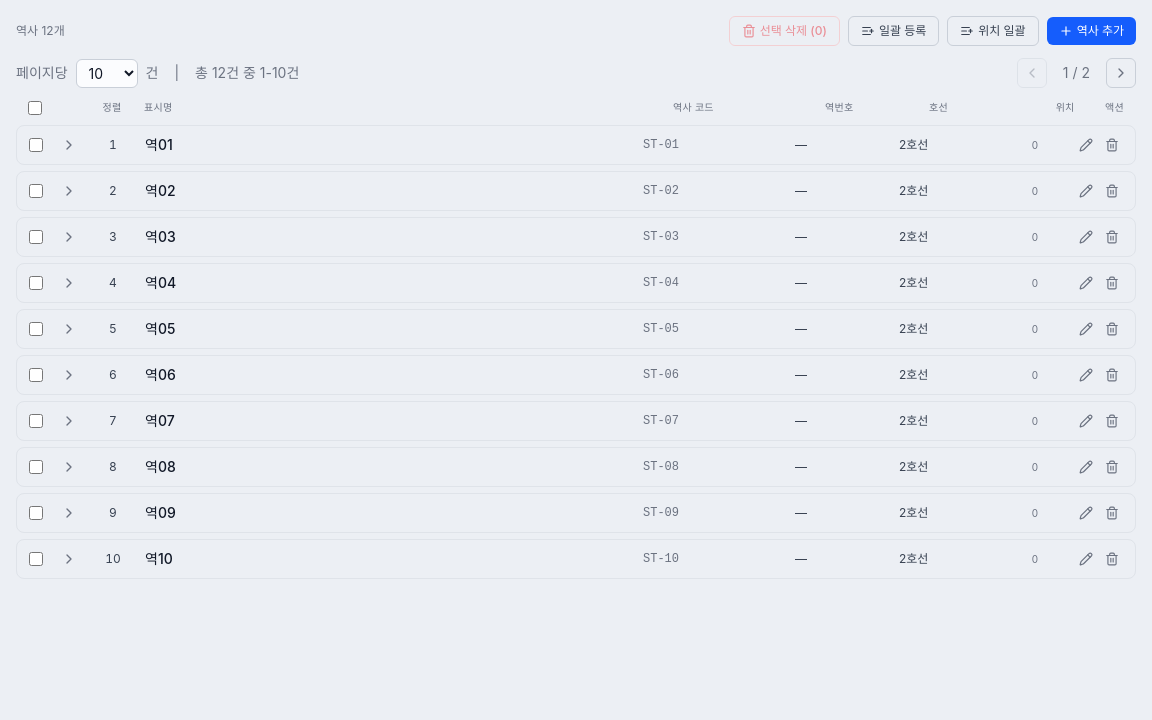
it: XsfmStationsTab 페이지네이션 › 페이지 크기를 25로 늘리면 12개 전체가 렌더된다
Select "25" in the dropdown named "페이지당" at (106, 73), box left=76, top=58, right=138, bottom=88
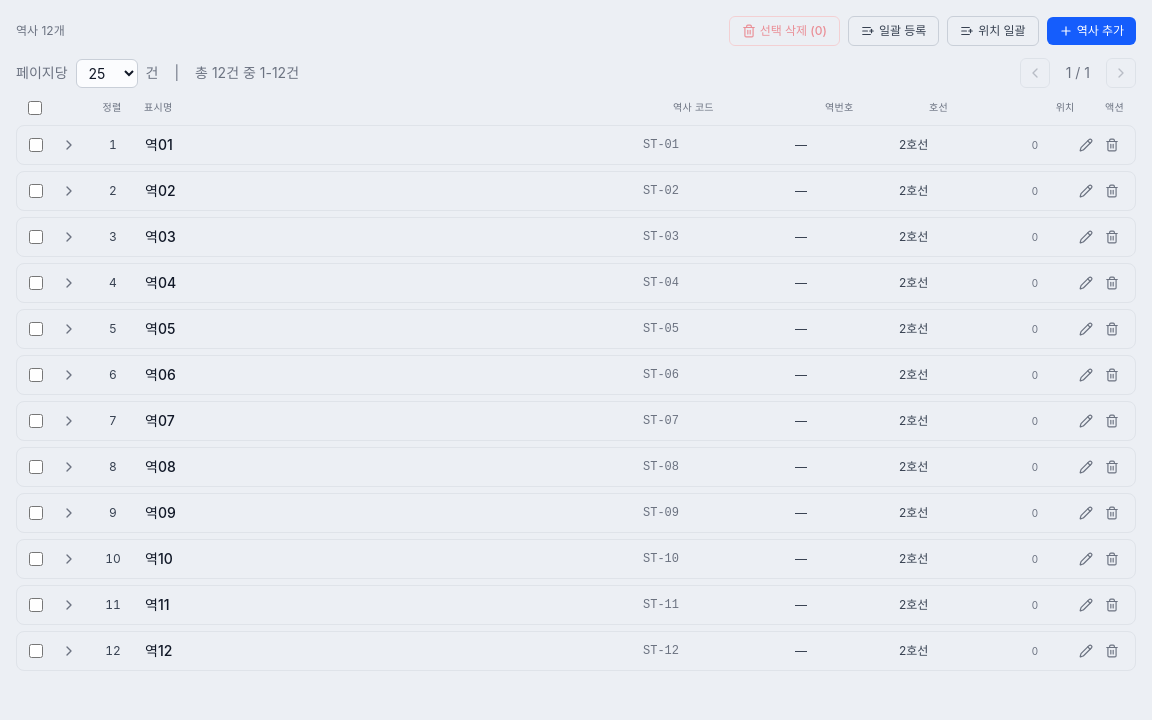
Now the text "역12" is shown, box left=145, top=642, right=172, bottom=659
